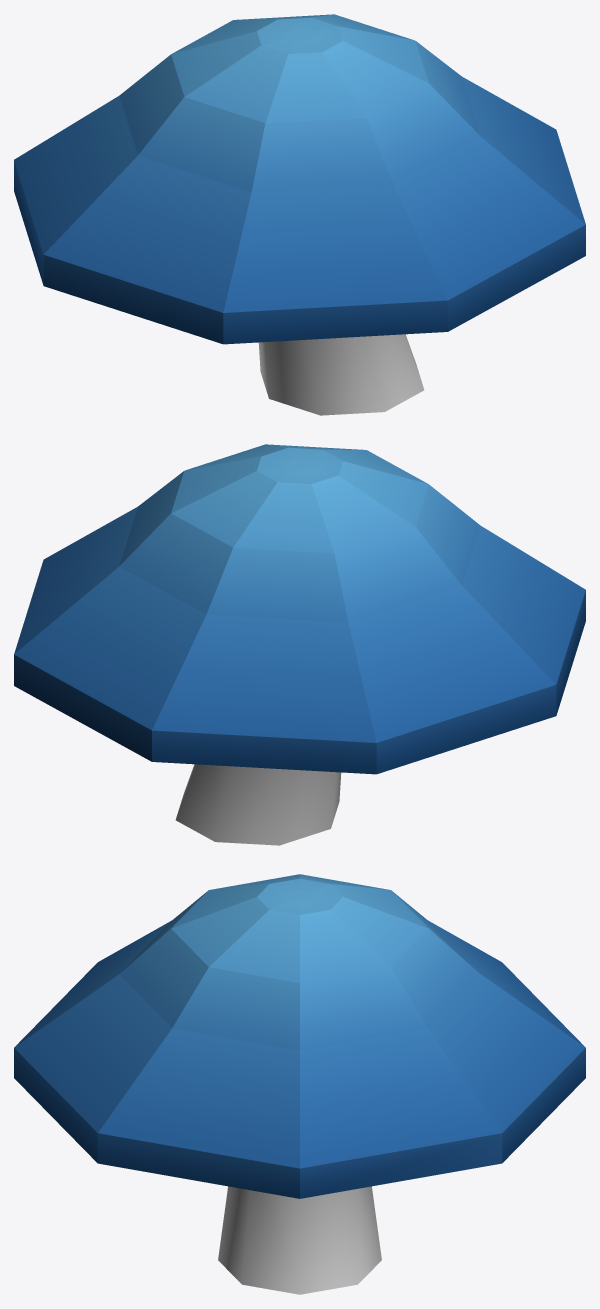
File: MushroomMediumBlue.FBX
3 views of the same model, one above another, from view 1: azimuth 30°, elevation 25°; view 2: azimuth 150°, elevation 25°; view 3: azimuth 270°, elevation 25° (orthographic). The views are drawn at different scales.
Visible parts, largest first — view 1: Cylinder053; view 2: Cylinder053; view 3: Cylinder053.
Part boxes in pixels (x1=…): Cylinder053: x1=14, y1=14, x2=585, y2=415; Cylinder053: x1=14, y1=444, x2=585, y2=845; Cylinder053: x1=14, y1=874, x2=585, y2=1294.
Bounding box in the file's own units: 24.66 × 16.38 × 24.66.
